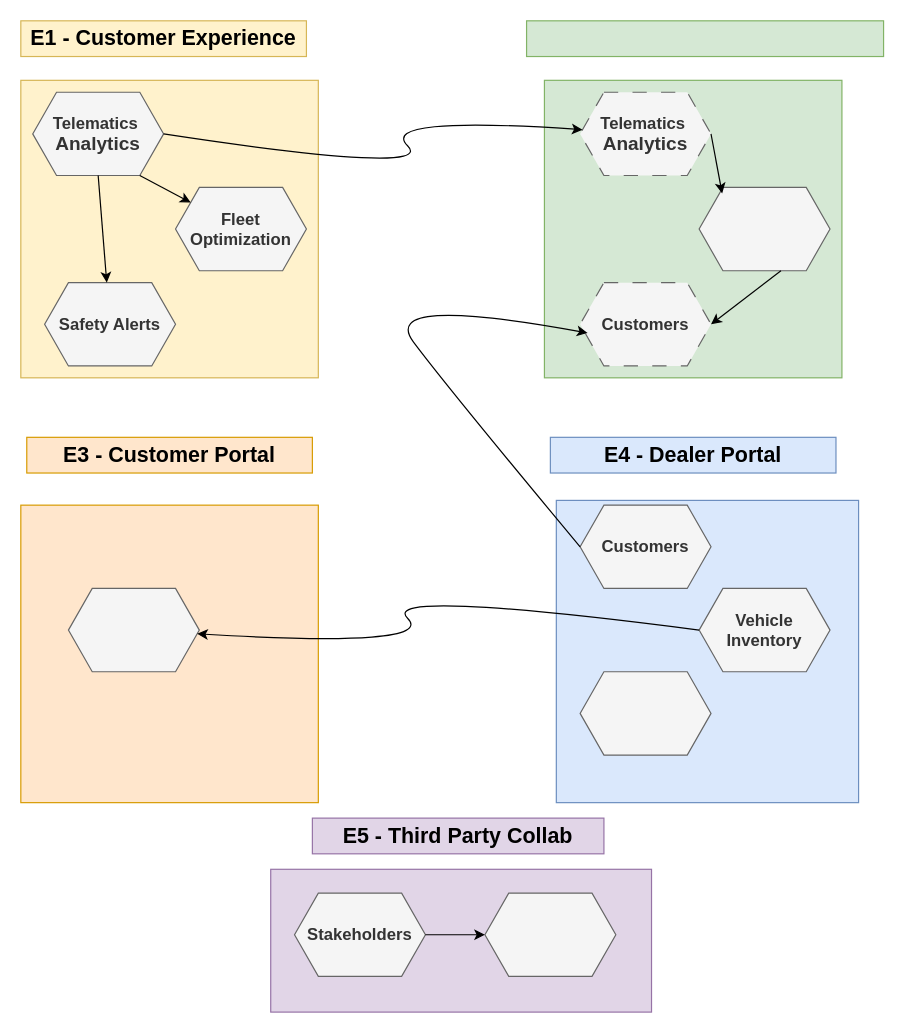
The diagram is 904 pixels wide and 1033 high, and some of its shapes have lost their labels. Here are the shapes that lost their labels. From the top down, the centre of each, then its label:
[704,38]: E2 - Transport As A Service (TaaS)
[764,228]: Subscription Service
[133,629]: Vehicle Specs
[645,713]: Online Financing
[550,934]: Colloborative Design
